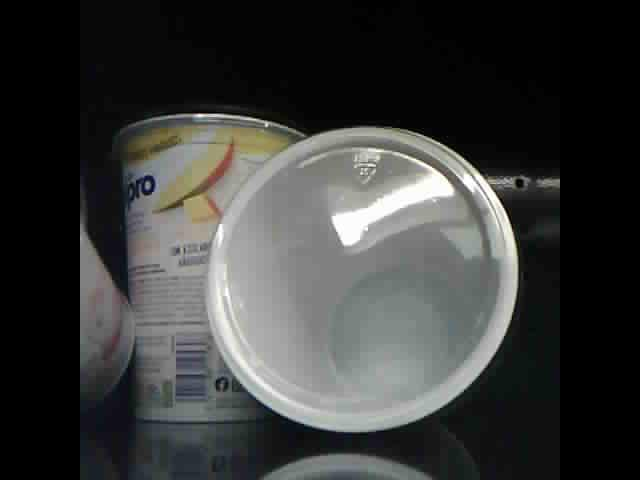alpro: (210, 126, 520, 435), (113, 105, 307, 426), (80, 221, 135, 435)
